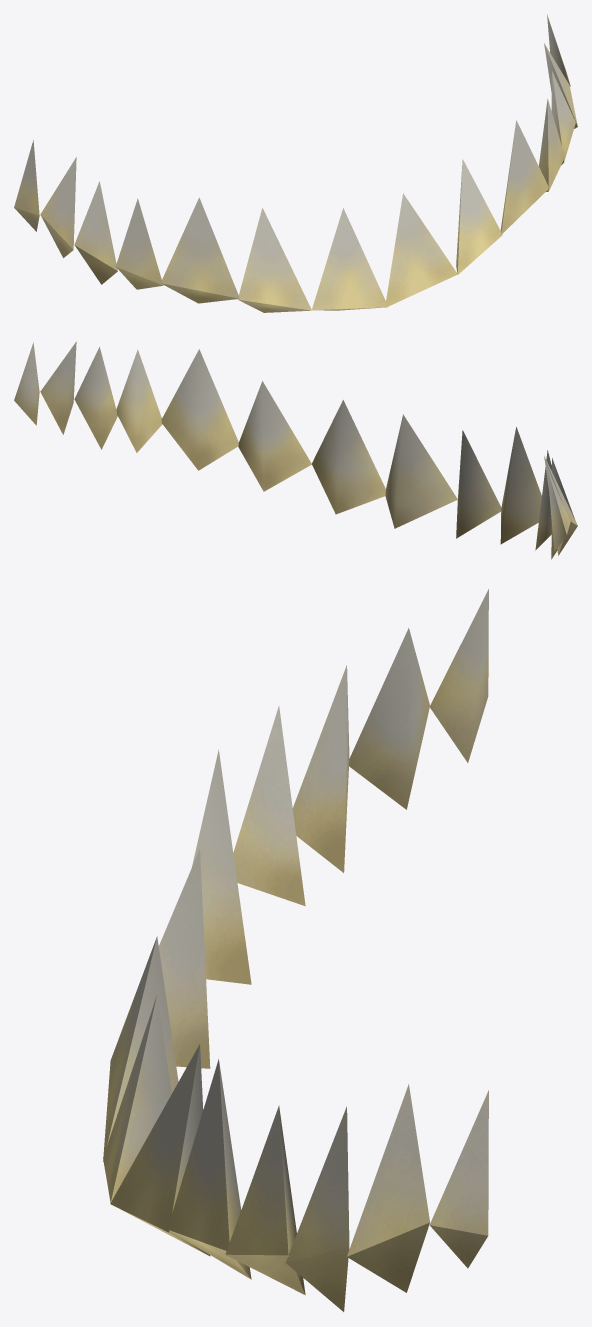
Rendered from SharkTeeth.fbx.
The picture shows the model from 3 angles, top to bottom: view 1: azimuth 30°, elevation 25°; view 2: azimuth 150°, elevation 25°; view 3: azimuth 270°, elevation 25°; orthographic projection. The views are drawn at different scales.
Parts seen in each view (by area): view 1: node_id41; view 2: node_id41; view 3: node_id41.
Boxes of the visible parts, bbox=[...] form: node_id41: bbox=[14, 14, 577, 312]; node_id41: bbox=[14, 341, 577, 559]; node_id41: bbox=[103, 589, 488, 1311].
Bounding box in the file's own units: 1.72 × 0.5103 × 0.5187.
1 material, 1 textured.
